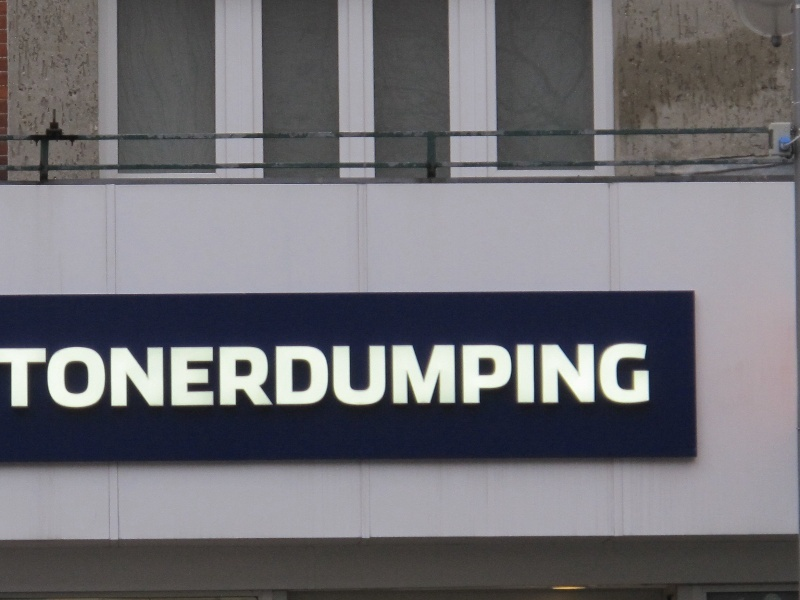text: (1, 341, 16, 410), (17, 341, 32, 410), (33, 341, 48, 410), (49, 341, 64, 410), (65, 341, 80, 410), (81, 341, 96, 410), (97, 341, 112, 410), (113, 341, 128, 410), (129, 341, 144, 410), (145, 341, 160, 410), (161, 341, 176, 410), (177, 341, 192, 410), (193, 341, 208, 410), (209, 341, 224, 410), (225, 341, 240, 410), (241, 341, 256, 410), (257, 341, 272, 410), (273, 341, 288, 410), (289, 341, 304, 410), (305, 341, 320, 410), (321, 341, 336, 410), (337, 341, 352, 410), (353, 341, 368, 410), (369, 341, 384, 410), (385, 341, 400, 410), (401, 341, 416, 410), (417, 341, 432, 410), (433, 341, 448, 410), (449, 341, 464, 410), (465, 341, 480, 410), (481, 341, 496, 410), (497, 341, 512, 410), (513, 341, 528, 410), (529, 341, 544, 410), (545, 341, 560, 410), (561, 341, 576, 410), (577, 341, 592, 410), (593, 341, 608, 410), (609, 341, 624, 410), (625, 341, 640, 410), (641, 341, 652, 410)
